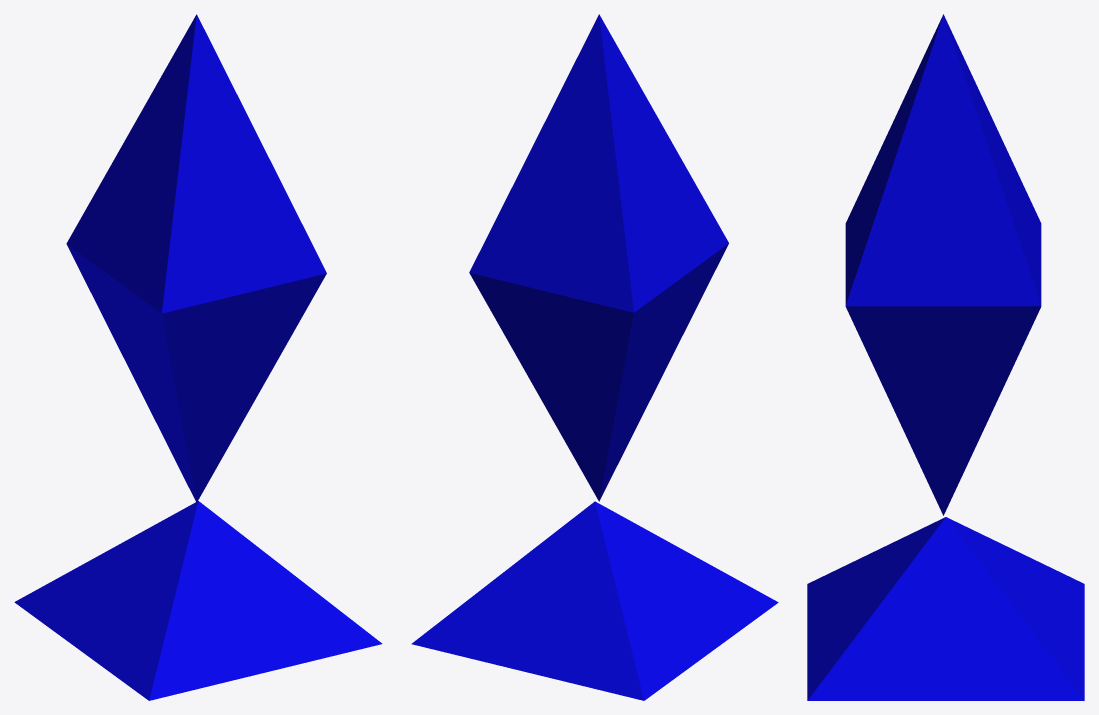
Rendered from torreCuadrada001.fbx.
3 views of the same model, side by side, from view 1: azimuth 30°, elevation 25°; view 2: azimuth 150°, elevation 25°; view 3: azimuth 270°, elevation 25° (orthographic). The views are drawn at different scales.
Visible parts, largest first — view 1: torreCuadrada; view 2: torreCuadrada; view 3: torreCuadrada.
Boxes of the visible parts, x1,y1,x2,y2 form: torreCuadrada: (14,14,382,700); torreCuadrada: (411,14,778,700); torreCuadrada: (807,14,1084,700).
Bounding box in the file's own units: 66 × 165 × 66.
